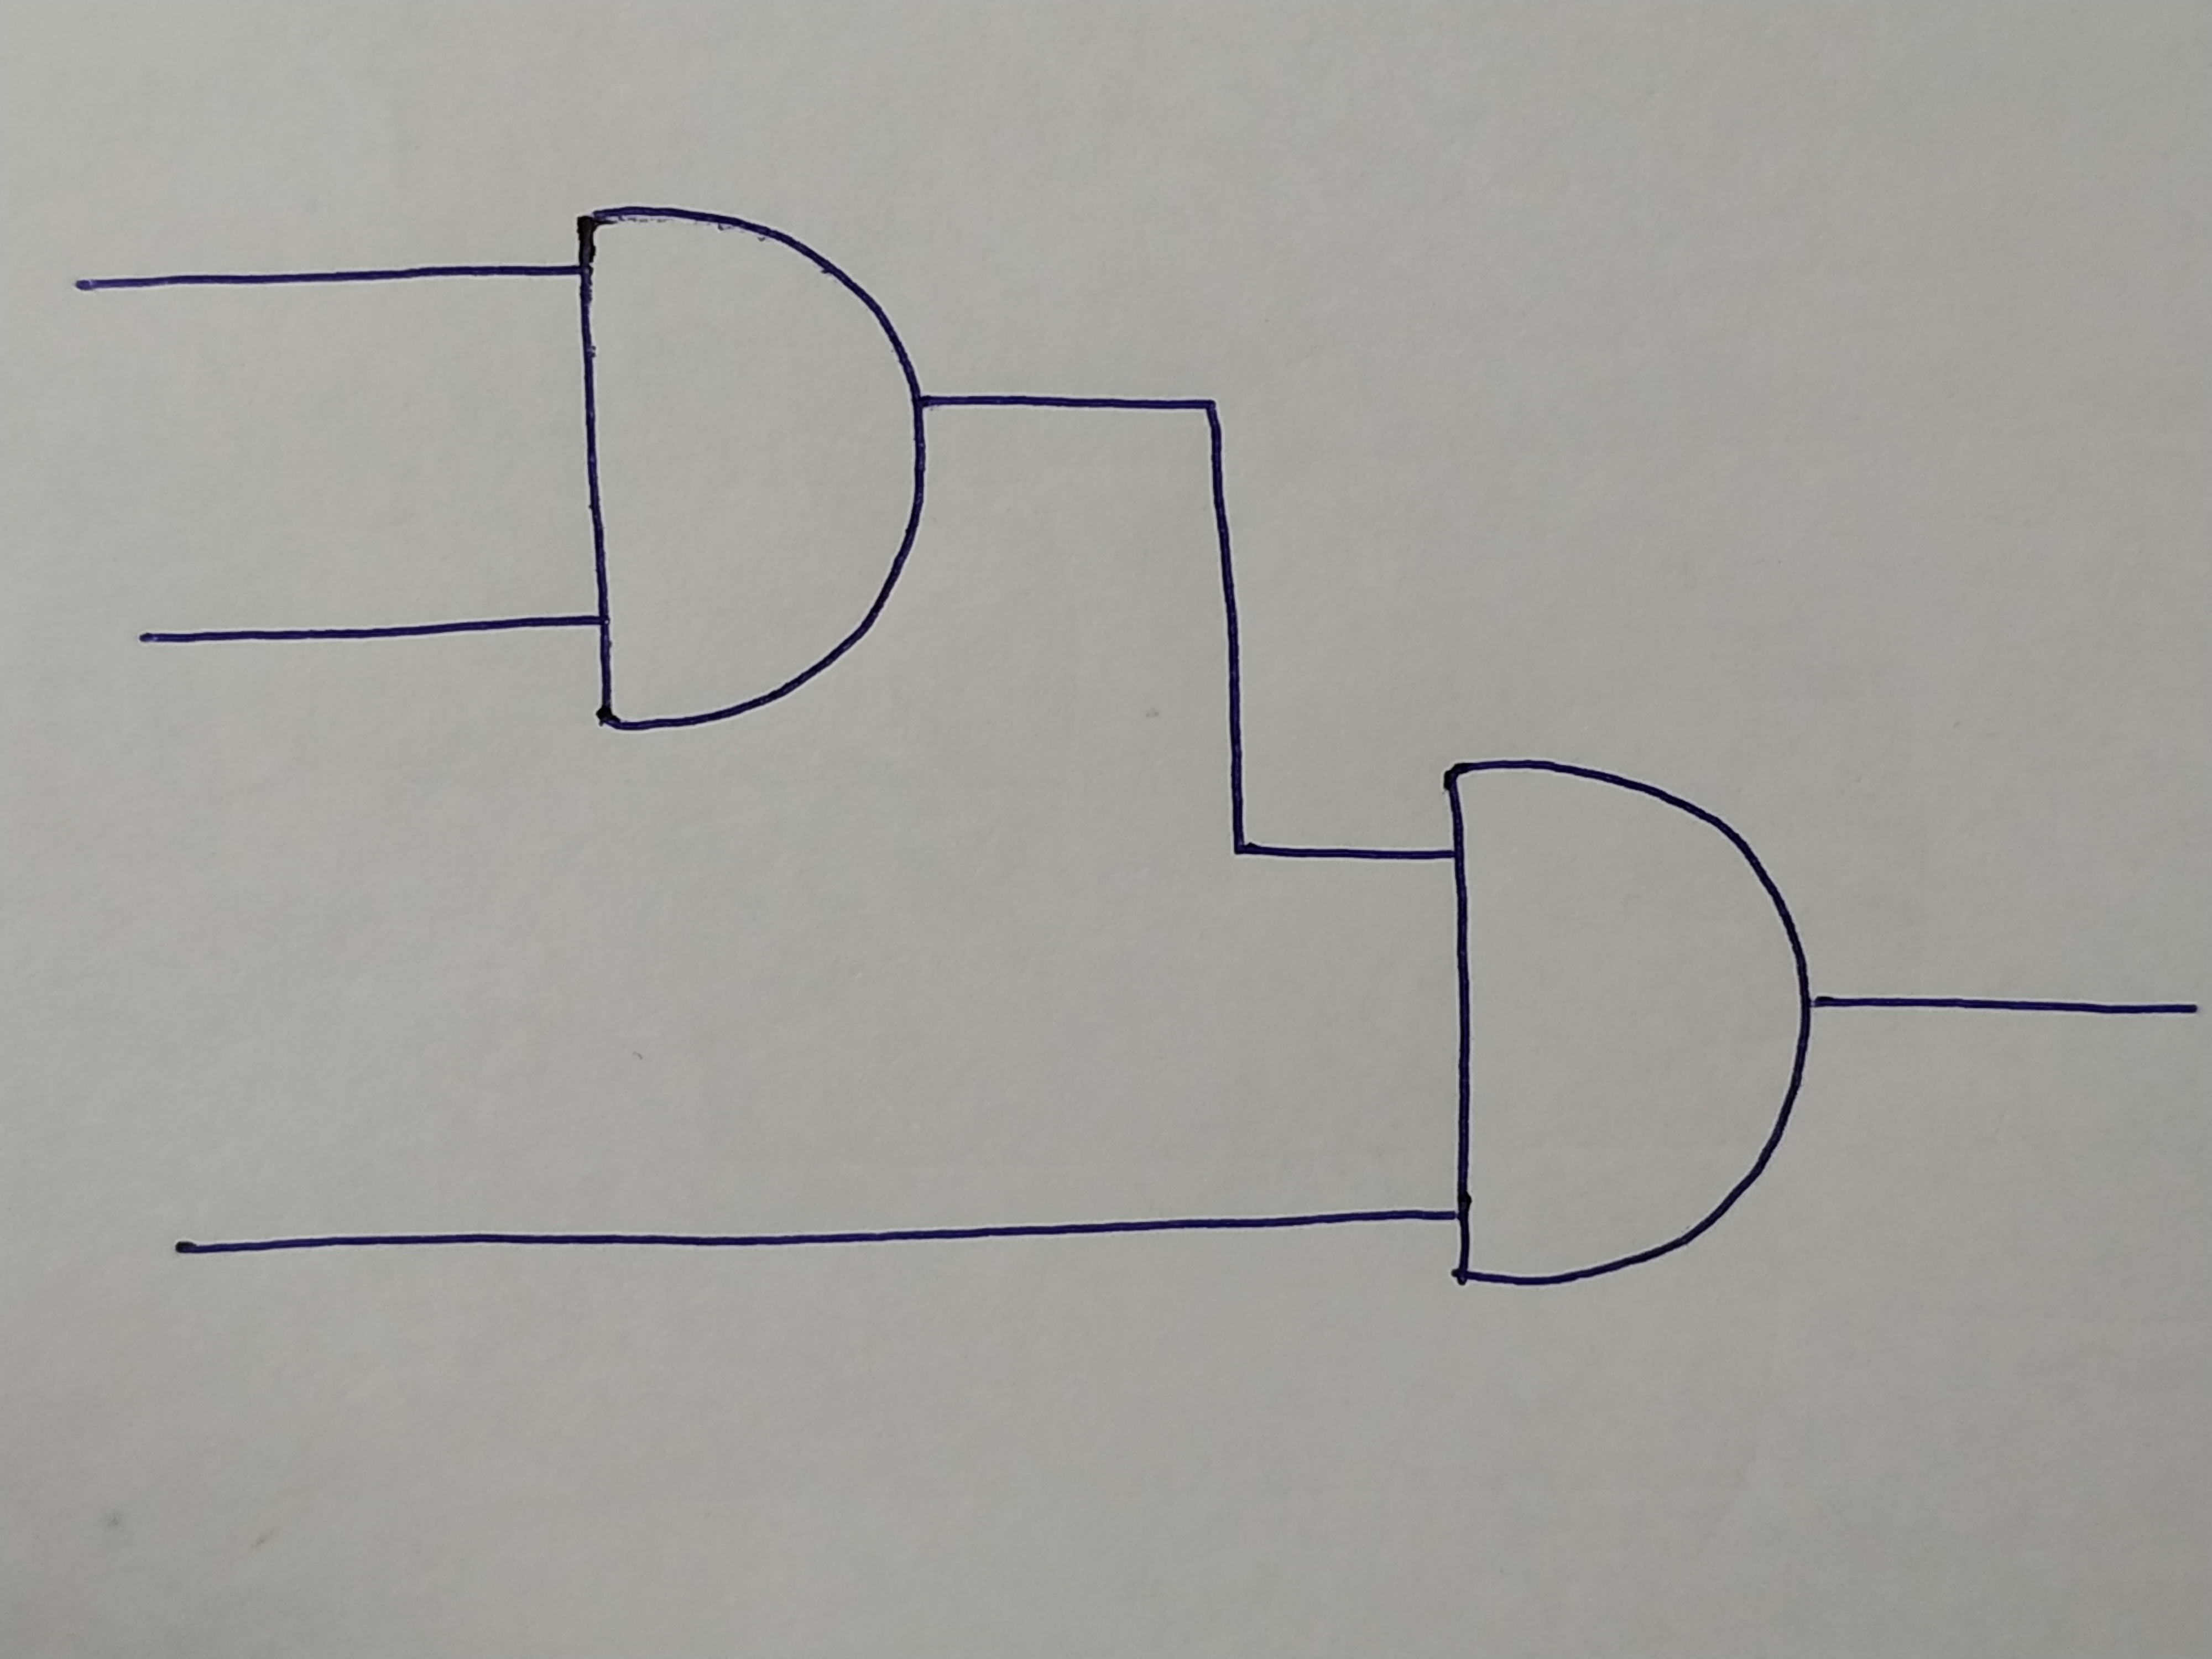and: (1439, 762, 1810, 1284), (582, 206, 921, 737)
